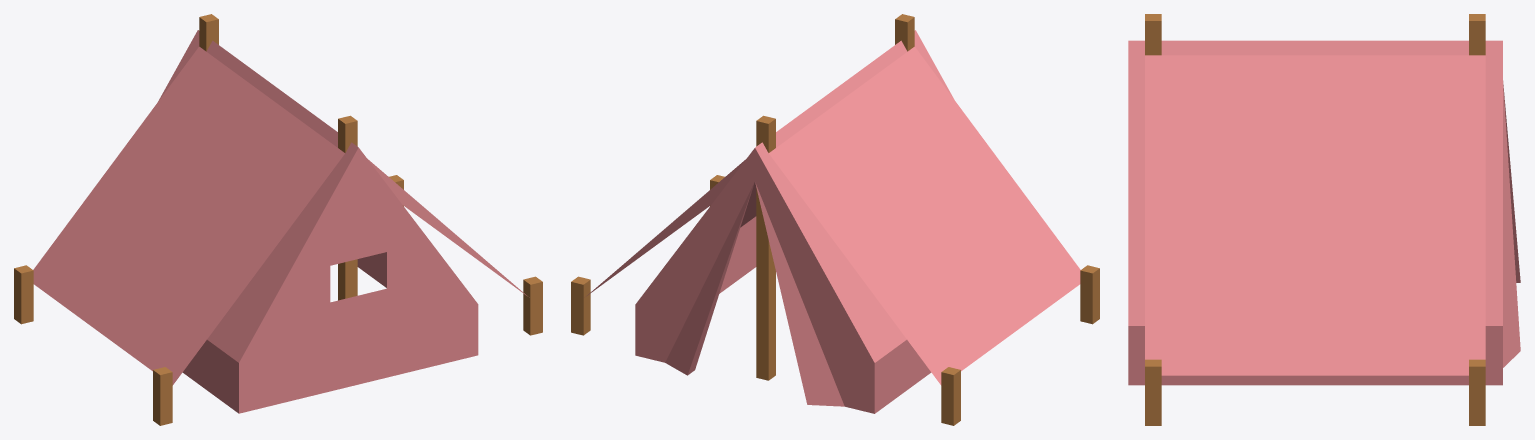
File: tent_detailedOpen.glb
The picture shows the model from 3 angles, left to right: view 1: azimuth 30°, elevation 25°; view 2: azimuth 150°, elevation 25°; view 3: azimuth 270°, elevation 25°; orthographic projection. The views are drawn at different scales.
Visible parts, largest first — view 1: tent_detailedOpen; view 2: tent_detailedOpen; view 3: tent_detailedOpen.
Boxes of the visible parts, box(x1,y1,x2,y2) form: tent_detailedOpen: box(14, 14, 542, 425); tent_detailedOpen: box(571, 14, 1099, 425); tent_detailedOpen: box(1128, 14, 1520, 425).
Bounding box in the file's own units: 0.8749 × 0.5611 × 0.6664.
